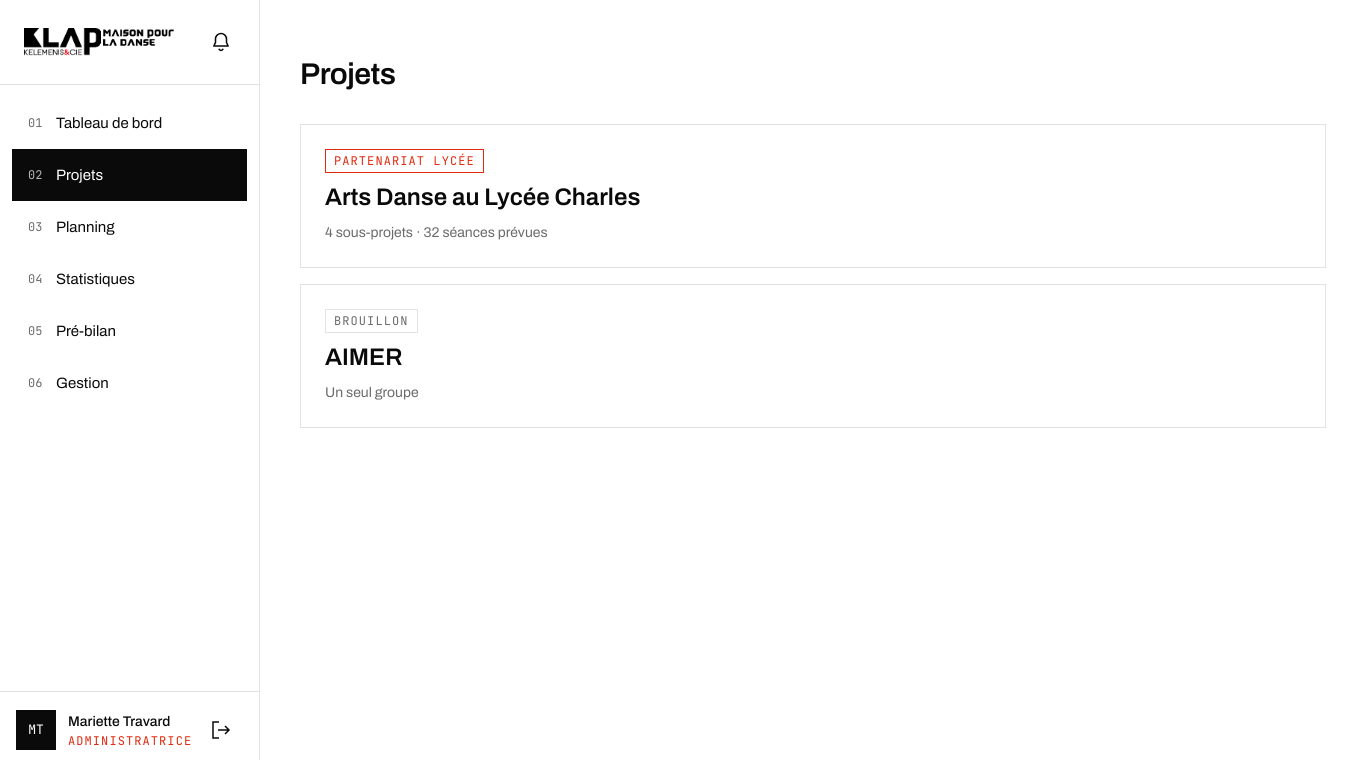
Liste des projets › liste les projets et mène au détail
The image size is (1366, 760).
Check: the link "Brouillon AIMER Un seul groupe" is shown, box [300, 284, 1326, 428]
Click the link "Arts Danse au Lycée Charles".
click(404, 161)  # box [300, 124, 1326, 268]
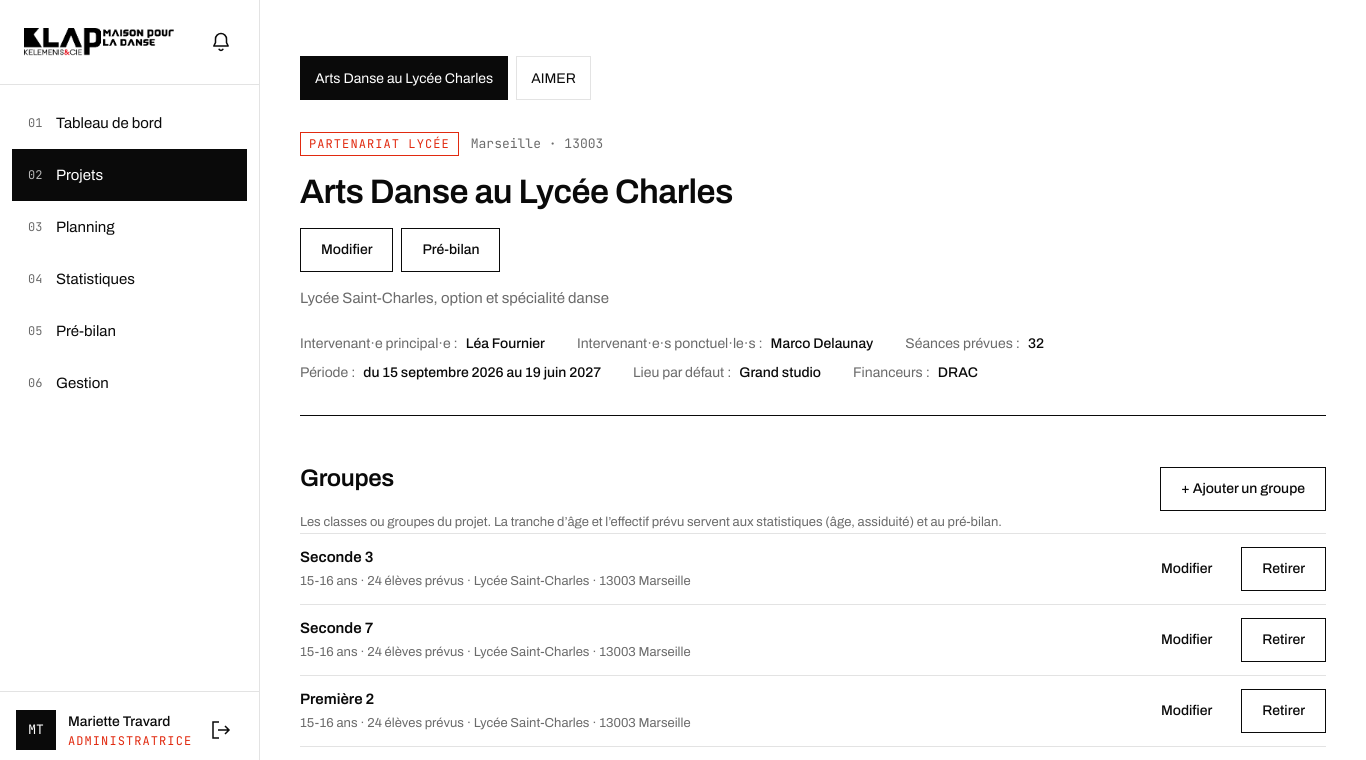
Check: the heading "Arts Danse au Lycée Charles" is shown, box [300, 173, 733, 210]
